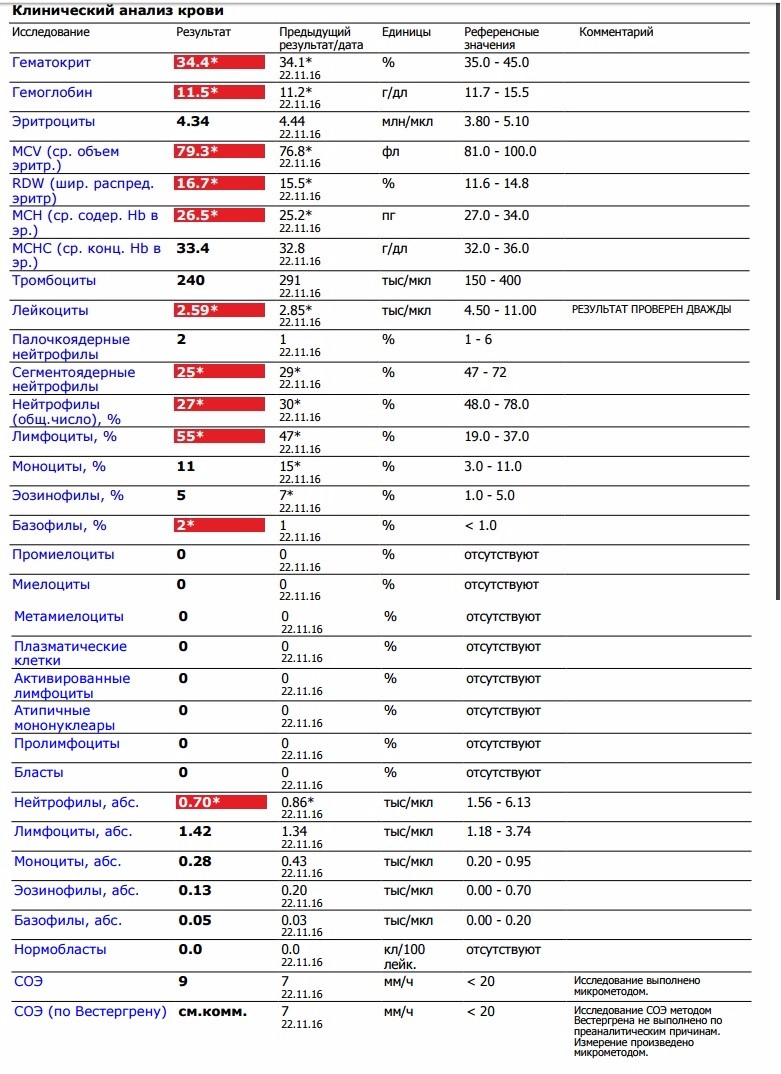column: (571, 23, 732, 1059), (11, 23, 167, 1059), (278, 23, 364, 1059), (462, 23, 540, 1059), (175, 23, 232, 1059), (380, 23, 434, 1059)
